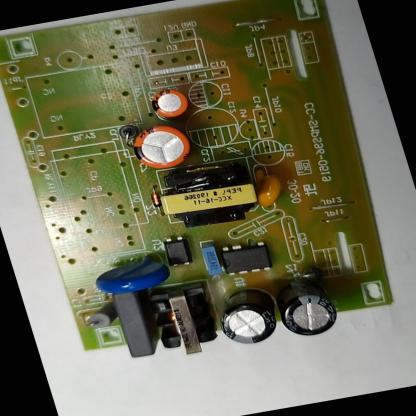Cap1: (127, 119, 196, 174)
Cap2: (147, 86, 190, 121)
Cap3: (210, 284, 284, 349)
Cap4: (272, 276, 342, 341)
MOSFET: (216, 237, 276, 278)
Mov: (88, 251, 174, 297)
Resistor: (80, 301, 122, 333)
Transformer: (151, 158, 266, 233), (141, 285, 223, 360)
